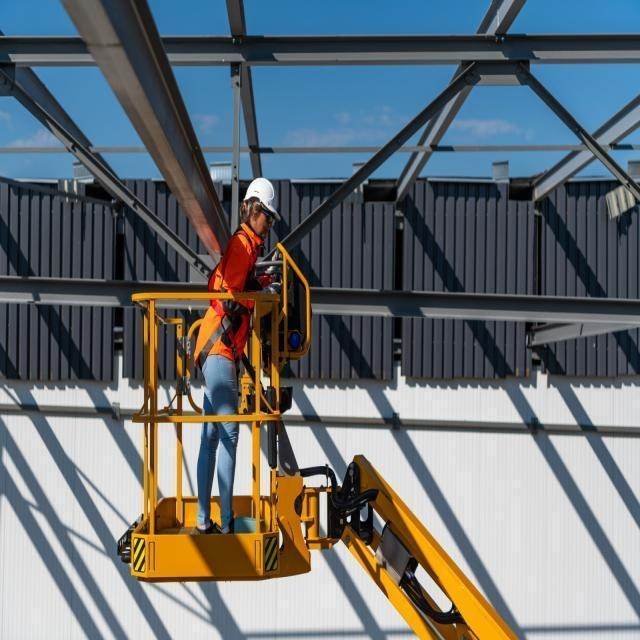Arnes_seguridad: (197, 228, 257, 374)
